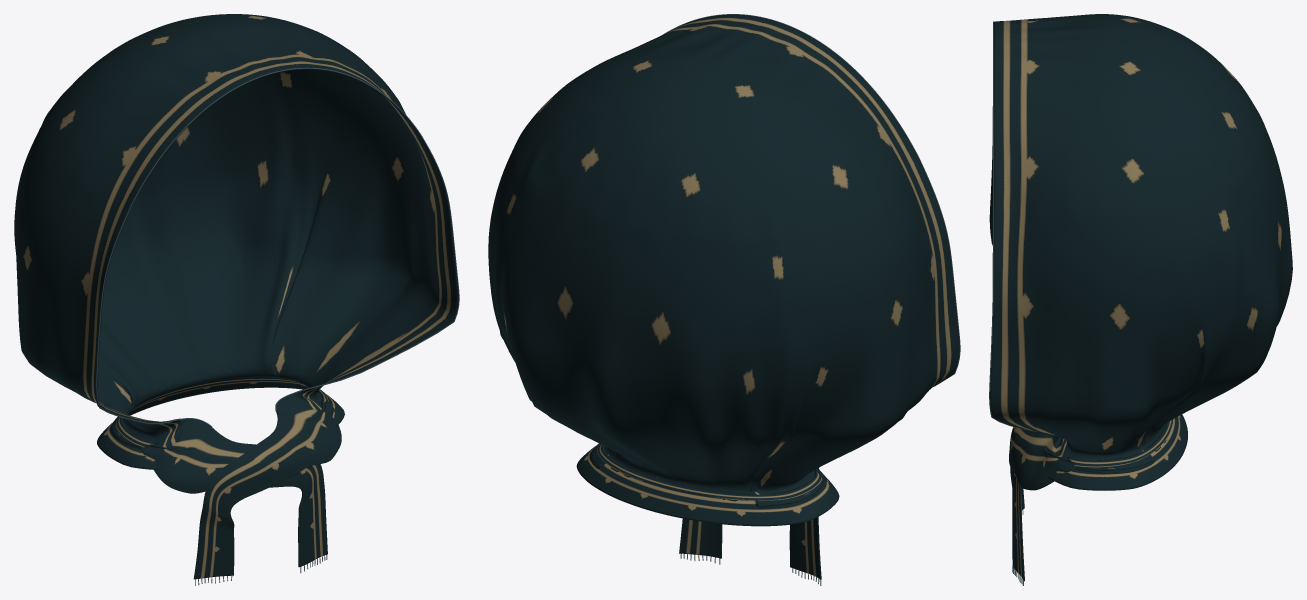
The model's file is Masculine-sweatshirt-pashmina241-headgear.glb.
3 views of the same model, side by side, from view 1: azimuth 30°, elevation 25°; view 2: azimuth 150°, elevation 25°; view 3: azimuth 270°, elevation 25° (orthographic). The views are drawn at different scales.
Visible parts, largest first — view 1: 226 headgear / Headwear / continuous woven pashmina239, 226 headgear / Headwear / face edge239; view 2: 226 headgear / Headwear / continuous woven pashmina239, 226 headgear / Headwear / face edge239; view 3: 226 headgear / Headwear / continuous woven pashmina239, 226 headgear / Headwear / face edge239.
Boxes of the visible parts, <box> form: 226 headgear / Headwear / continuous woven pashmina239: <box>14,14,458,579</box>; 226 headgear / Headwear / face edge239: <box>96,67,459,427</box>; 226 headgear / Headwear / continuous woven pashmina239: <box>488,14,959,579</box>; 226 headgear / Headwear / face edge239: <box>663,14,960,386</box>; 226 headgear / Headwear / continuous woven pashmina239: <box>989,14,1292,581</box>; 226 headgear / Headwear / face edge239: <box>989,21,1038,431</box>.
Bounding box in the file's own units: 1.03 × 1.35 × 0.7127.
3 materials, 1 textured.
